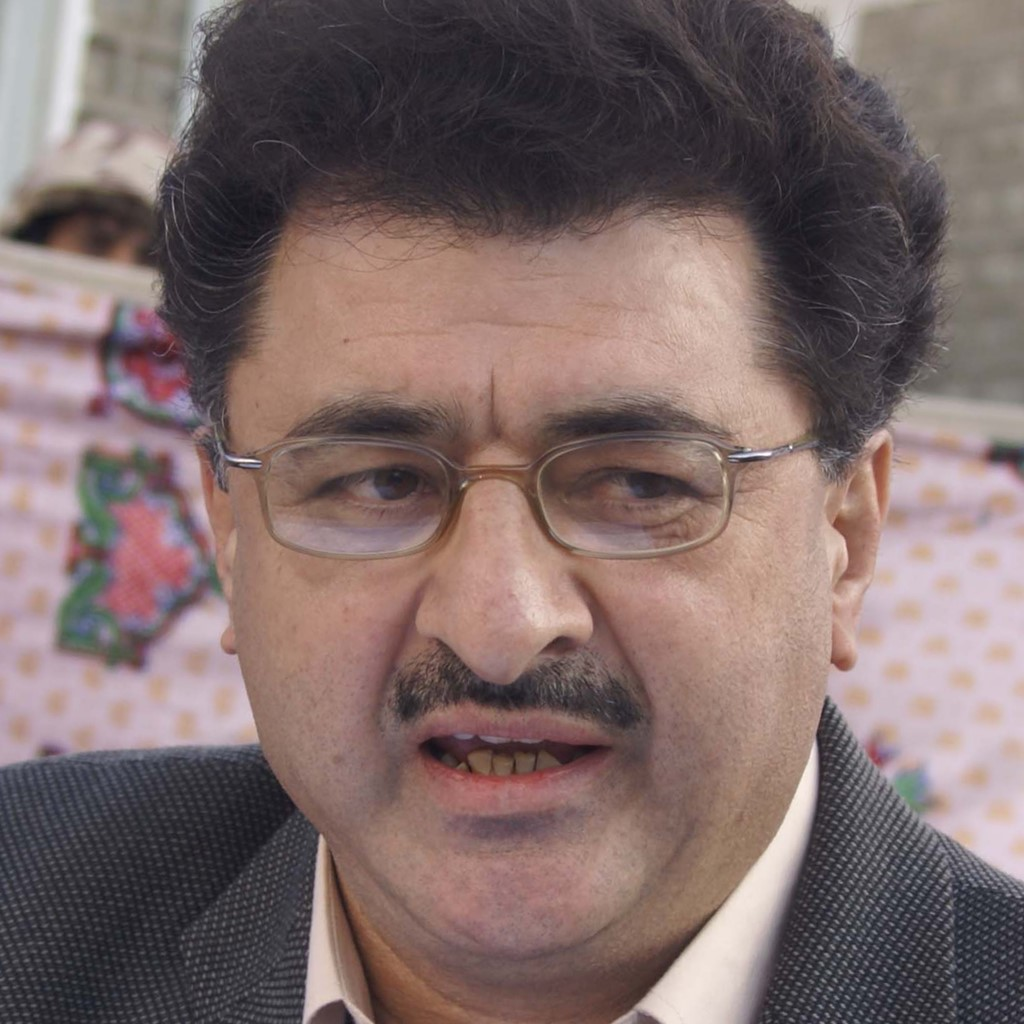sin_mascara: (210, 89, 846, 966)
